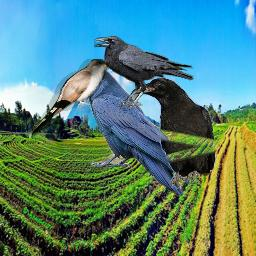Crow: (69, 63, 191, 195), (130, 77, 217, 189), (94, 36, 194, 110)
Cuckoo: (28, 59, 114, 138)
